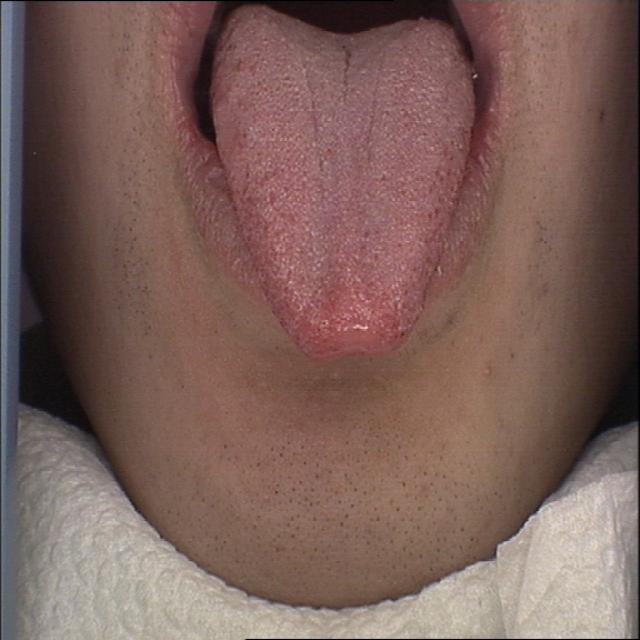tongue: (204, 0, 483, 369)
